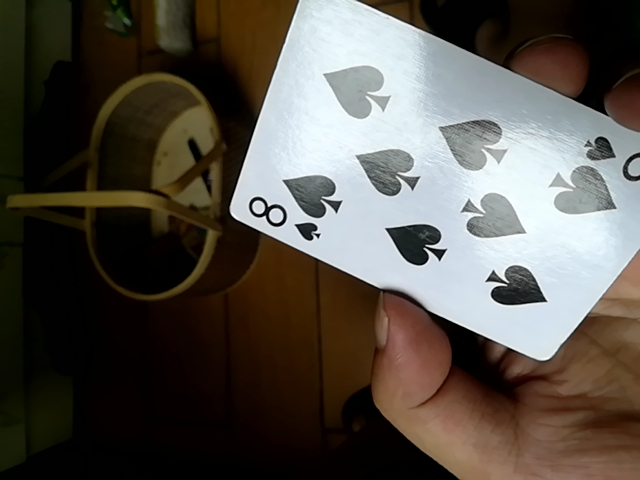ht 8: (226, 2, 637, 372)
